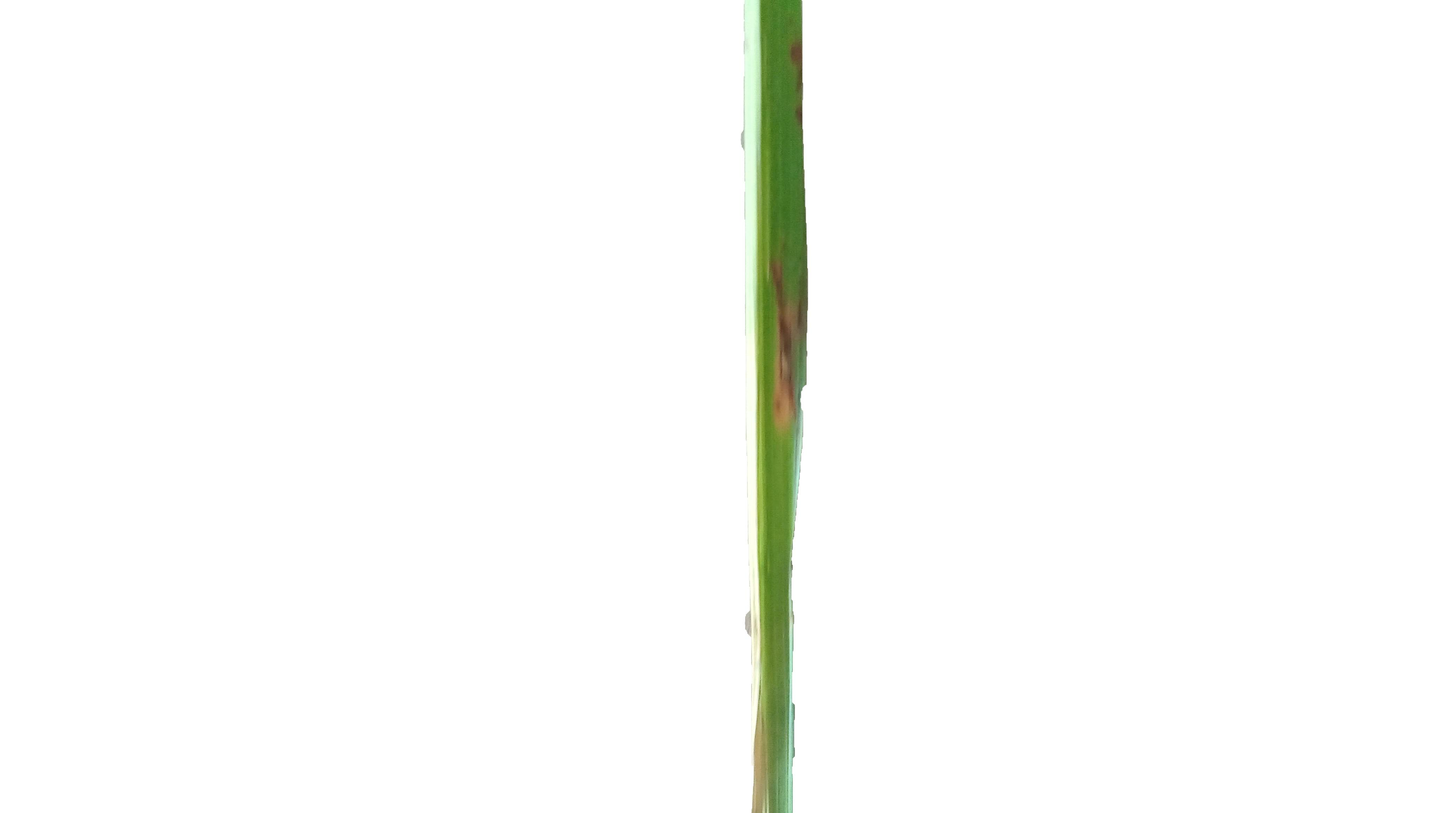Rice blast: (766, 254, 802, 438), (783, 28, 803, 132)
